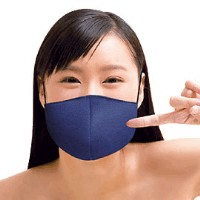face_mask: (46, 34, 136, 161)
